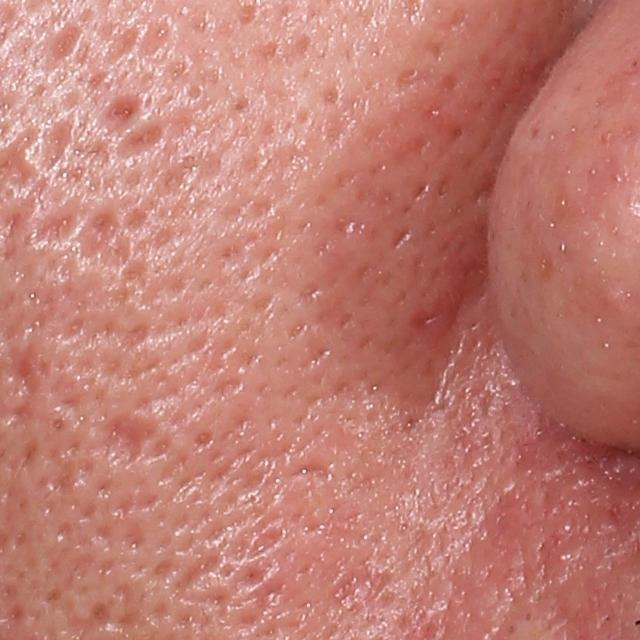atrophic_scar: (23, 193, 91, 256), (93, 410, 160, 472), (108, 108, 169, 165), (66, 205, 120, 266), (36, 111, 79, 178), (49, 18, 89, 73), (96, 91, 143, 134)
